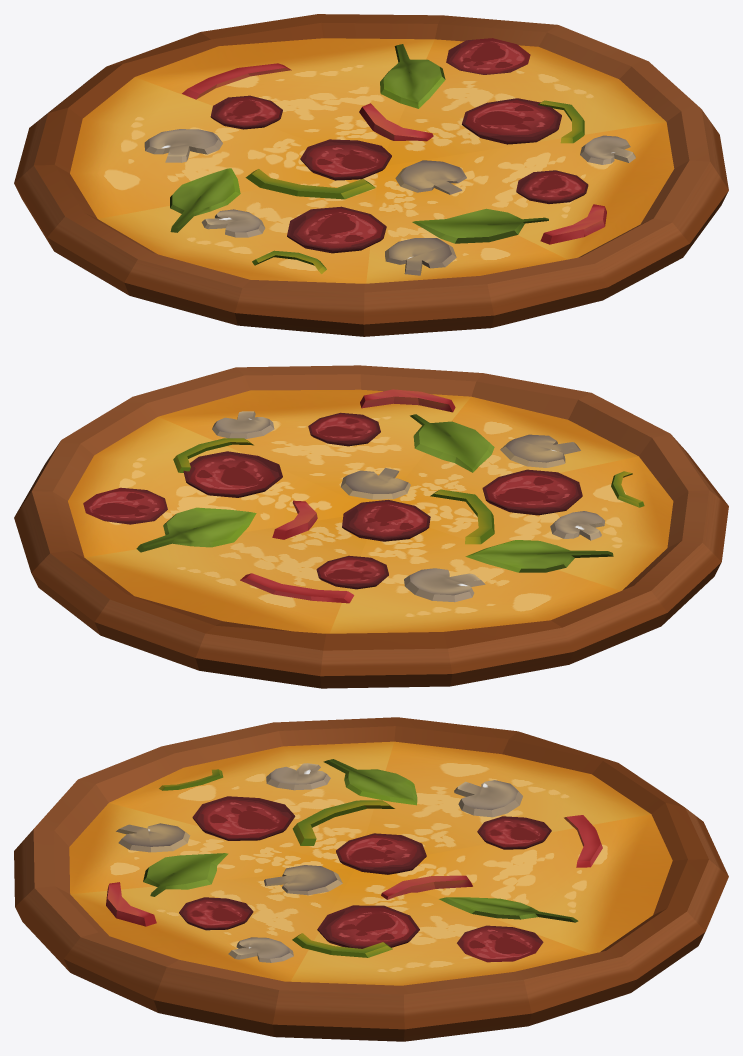
The picture shows the model from 3 angles, top to bottom: view 1: azimuth 30°, elevation 25°; view 2: azimuth 150°, elevation 25°; view 3: azimuth 270°, elevation 25°; orthographic projection.
Visible parts, largest first — view 1: Pizza_0, Mushrooms_1, Spinach_3, Plane.001_2; view 2: Pizza_0, Mushrooms_1, Spinach_3, Plane.001_2; view 3: Pizza_0, Mushrooms_1, Spinach_3, Plane.001_2.
Boxes of the visible parts, x1,y1,x2,y2 form: Pizza_0: [14, 14, 728, 336]; Mushrooms_1: [144, 38, 635, 275]; Spinach_3: [170, 44, 548, 243]; Plane.001_2: [182, 63, 606, 273]; Pizza_0: [14, 365, 728, 688]; Mushrooms_1: [83, 411, 604, 602]; Spinach_3: [136, 414, 613, 572]; Plane.001_2: [173, 389, 644, 603]; Pizza_0: [14, 717, 728, 1041]; Mushrooms_1: [116, 763, 551, 962]; Spinach_3: [143, 759, 578, 922]; Plane.001_2: [106, 769, 602, 957].
Bounding box in the file's own units: 8.53 × 0.568 × 8.5.
9 materials, 9 textured.
